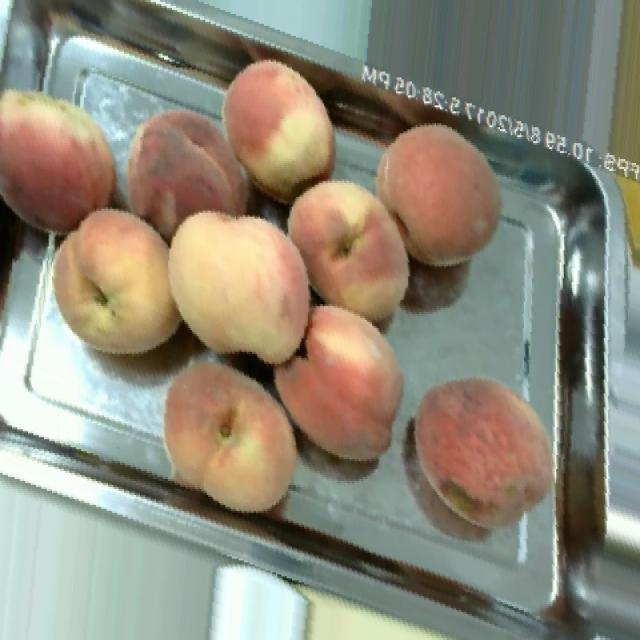Fruit: (135, 338, 324, 537), (157, 183, 335, 383), (390, 360, 570, 552), (24, 186, 184, 382), (259, 292, 421, 481), (107, 86, 273, 256), (199, 44, 356, 220), (273, 161, 427, 338), (359, 108, 513, 278), (0, 66, 131, 254)
